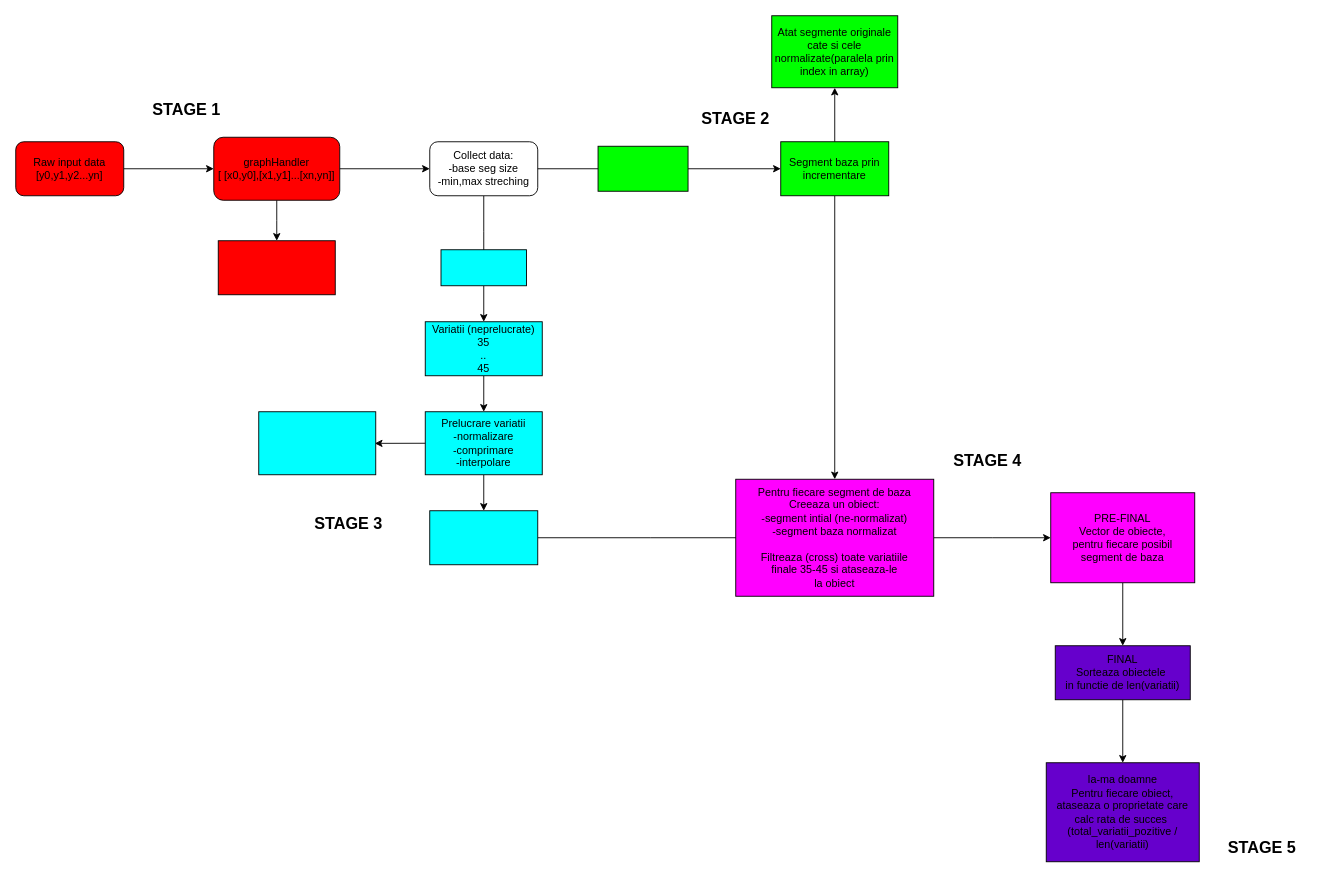
Some shapes in this 1341 by 878 pixel diagram are drawn without their labels. Here are the shapes that lost their labels. From the top down, the centre of each, then its label:
[642,168]: base segment size
[276,267]: -continuous to candle -filters (fact_1, fact_2) -back to continuous
[483,267]: min max streching
[317,443]: *Comprimare doar pe orizontala (y se regleaza din abatere la cross cor)
[483,537]: Variatii finale de lungime = seg_baza
